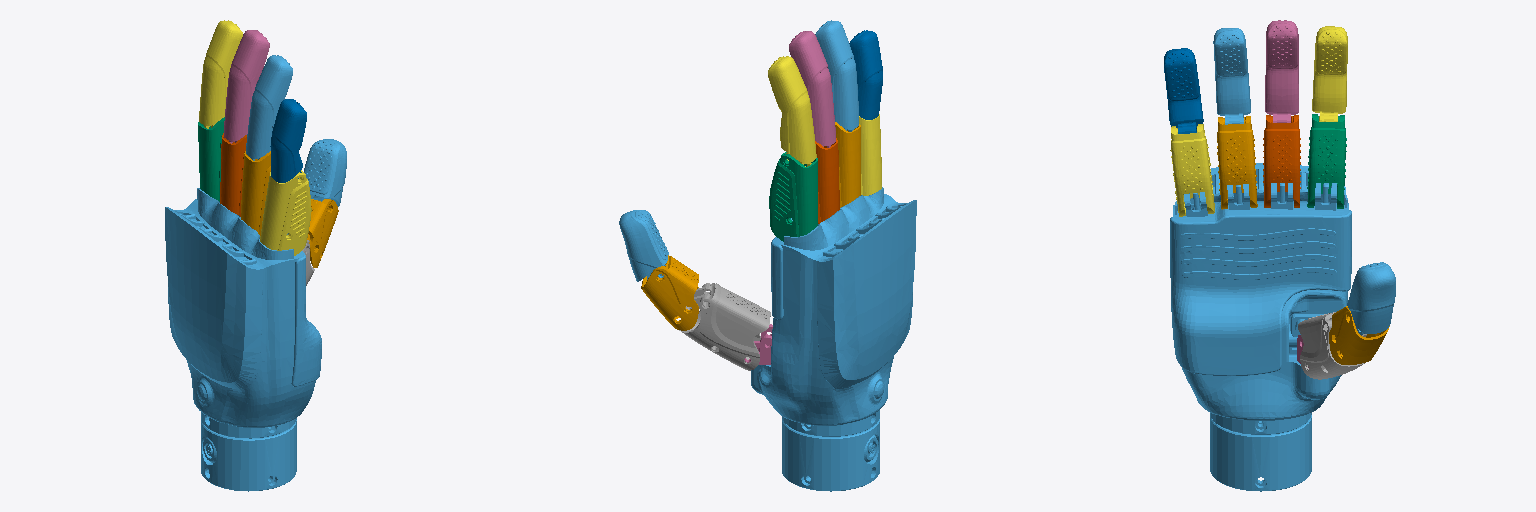
The robot description file, URDF, robot "inspire_hand_right":
<?xml version="1.0" encoding="UTF-8"?>
<robot name="inspire_hand_right">
  <!-- Extracted from franka_inspire_combined.urdf: Inspire hand only. -->
  <!-- ======================== -->
  <!-- Inspire Hand (joints)    -->
  <!-- ======================== -->
  <joint name="base_joint" type="fixed">
    <origin xyz="0. 0. 0.09" rpy="1.57 -0. -1.57"/>
    <parent link="inspire_hand_base"/>
    <child link="hand_base_link"/>
  </joint>
  <joint name="right_index_1_joint" type="revolute">
    <origin xyz="-0.040005 0.064623 -0.00345 " rpy="-1.5369525 -1.5707927 -3.1405327"/>
    <parent link="hand_base_link"/>
    <child link="right_index_1"/>
    <axis xyz="0. 1. 0."/>
    <limit lower="0." upper="1.47" effort="6." velocity="0.7"/>
  </joint>
  <joint name="right_index_2_joint" type="revolute">
    <origin xyz="-0.0016312 -0.00055 -0.032734 " rpy="0. 0. 0."/>
    <parent link="right_index_1"/>
    <child link="right_index_2"/>
    <axis xyz="0. 1. 0."/>
    <limit lower="0." upper="1.5435" effort="6." velocity="0.7"/>
    <mimic joint="right_index_1_joint" multiplier="1.05" offset="0.0"/>
  </joint>
  <joint name="index_tip_joint" type="fixed">
    <origin xyz="0. -0.006 -0.053575" rpy="0. 0. 0."/>
    <parent link="right_index_2"/>
    <child link="index_tip"/>
  </joint>
  <joint name="right_middle_1_joint" type="revolute">
    <origin xyz="-0.018426 0.065223 -0.00345 " rpy="-1.5544026 -1.5707927 3.1252024"/>
    <parent link="hand_base_link"/>
    <child link="right_middle_1"/>
    <axis xyz="0. 1. 0."/>
    <limit lower="0." upper="1.47" effort="6." velocity="0.7"/>
  </joint>
  <joint name="right_middle_2_joint" type="revolute">
    <origin xyz="-0.0028436 -0.00055 -0.032651 " rpy="0. 0. 0."/>
    <parent link="right_middle_1"/>
    <child link="right_middle_2"/>
    <axis xyz="0. 1. 0."/>
    <limit lower="0." upper="1.5435" effort="6." velocity="0.7"/>
    <mimic joint="right_middle_1_joint" multiplier="1.05" offset="0.0"/>
  </joint>
  <joint name="middle_tip_joint" type="fixed">
    <origin xyz="0. -0.006 -0.0572" rpy="0. 0. 0."/>
    <parent link="right_middle_2"/>
    <child link="middle_tip"/>
  </joint>
  <joint name="right_ring_1_joint" type="revolute">
    <origin xyz="0.0032044 0.065057 -0.00345 " rpy="-1.6217828 -1.5707927 3.1401827"/>
    <parent link="hand_base_link"/>
    <child link="right_ring_1"/>
    <axis xyz="0. 1. 0."/>
    <limit lower="0." upper="1.47" effort="6." velocity="0.7"/>
  </joint>
  <joint name="right_ring_2_joint" type="revolute">
    <origin xyz="-0.0031431 -0.00055 -0.032624 " rpy="0. 0. 0."/>
    <parent link="right_ring_1"/>
    <child link="right_ring_2"/>
    <axis xyz="0. 1. 0."/>
    <limit lower="0." upper="1.5435" effort="6." velocity="0.7"/>
    <mimic joint="right_ring_1_joint" multiplier="1.05" offset="0.0"/>
  </joint>
  <joint name="ring_tip_joint" type="fixed">
    <origin xyz="0. -0.006 -0.05365" rpy="0. 0. 0."/>
    <parent link="right_ring_2"/>
    <child link="ring_tip"/>
  </joint>
  <joint name="right_little_1_joint" type="revolute">
    <origin xyz="0.02459 0.061875 -0.00345 " rpy="-1.6722852 -1.5707927 3.1383853"/>
    <parent link="hand_base_link"/>
    <child link="right_little_1"/>
    <axis xyz="0. 1. 0."/>
    <limit lower="0." upper="1.47" effort="6." velocity="0.7"/>
  </joint>
  <joint name="right_little_2_joint" type="revolute">
    <origin xyz="-0.005182 -0.00055 -0.032363" rpy="0. 0.0000036 0."/>
    <parent link="right_little_1"/>
    <child link="right_little_2"/>
    <axis xyz="0. 1. 0."/>
    <limit lower="0." upper="1.5435" effort="6." velocity="0.7"/>
    <mimic joint="right_little_1_joint" multiplier="1.05" offset="0.0"/>
  </joint>
  <joint name="little_tip_joint" type="fixed">
    <origin xyz="0.0045 -0.006 -0.04365" rpy="0. 1.5707963 0."/>
    <parent link="right_little_2"/>
    <child link="little_tip"/>
  </joint>
  <joint name="right_thumb_1_joint" type="revolute">
    <origin xyz="-0.028226 -0.0227776 -0.0239 " rpy="0. 0. 0."/>
    <parent link="hand_base_link"/>
    <child link="right_thumb_1"/>
    <axis xyz="0. 1. 0."/>
    <limit lower="-1.2" upper="-0.3" effort="6." velocity="0.7"/>
  </joint>
  <joint name="right_thumb_2_joint" type="revolute">
    <origin xyz="-0.0063016 0.003 -0.011924 " rpy="-1.5707928 0.3490927 3.1065927"/>
    <parent link="right_thumb_1"/>
    <child link="right_thumb_2"/>
    <axis xyz="0. 1. 0."/>
    <limit lower="0.14" upper="0.56" effort="6." velocity="0.7"/>
  </joint>
  <joint name="right_thumb_3_joint" type="revolute">
    <origin xyz="0.038292 -0.0015 -0.014535" rpy="0. -0.25 0."/>
    <parent link="right_thumb_2"/>
    <child link="right_thumb_3"/>
    <axis xyz="0. 1. 0."/>
    <limit lower="0.056" upper="0.224" effort="6." velocity="0.7"/>
    <mimic joint="right_thumb_2_joint" multiplier="0.4" offset="0.0"/>
  </joint>
  <joint name="right_thumb_4_joint" type="revolute">
    <origin xyz="0.018189 -0.0002 -0.012576" rpy="0. -0.15 0."/>
    <parent link="right_thumb_3"/>
    <child link="right_thumb_4"/>
    <axis xyz="0. 1. 0."/>
    <limit lower="0.084" upper="0.336" effort="6." velocity="0.7"/>
    <mimic joint="right_thumb_2_joint" multiplier="0.6" offset="0.0"/>
  </joint>
  <joint name="thumb_tip_joint" type="fixed">
    <origin xyz="0.0268 -0.007 -0.023 " rpy="0. 0. 0."/>
    <parent link="right_thumb_4"/>
    <child link="thumb_tip"/>
  </joint>
  <!-- ======================== -->
  <!-- Inspire Hand (links)     -->
  <!-- ======================== -->
  <link name="inspire_hand_base"/>
  <link name="hand_base_link">
    <inertial>
      <origin xyz="-0.001272623093 -0.009142889064 0.0007918971564" rpy="0. 0. 0."/>
      <mass value="0.2"/>
      <inertia ixx="0.0003335118612" ixy="0.000004305697899" ixz="0.000001961083063" iyy="0.0001393655463" iyz="-0.00003154632444" izz="0.000387288915"/>
    </inertial>
<visual>
      <origin xyz="0. 0. 0." rpy="0. 0. 0."/>
      <geometry>
        <mesh filename="./meshes/hand_base_link_visuals.obj" scale="1. 1. 1."/>
      </geometry>
    </visual>
    <collision name="hand_base_link_hull_0">
      <origin xyz="0 0 0" rpy="0 0 0"/>
      <geometry>
        <mesh filename="./meshes/collision_hulls/hand_base_link_hull_0.obj" scale="1 1 1"/>
      </geometry>
    </collision>
    <collision name="hand_base_link_hull_1">
      <origin xyz="0 0 0" rpy="0 0 0"/>
      <geometry>
        <mesh filename="./meshes/collision_hulls/hand_base_link_hull_1.obj" scale="1 1 1"/>
      </geometry>
    </collision>
    <collision name="hand_base_link_hull_2">
      <origin xyz="0 0 0" rpy="0 0 0"/>
      <geometry>
        <mesh filename="./meshes/collision_hulls/hand_base_link_hull_2.obj" scale="1 1 1"/>
      </geometry>
    </collision>
    <collision name="hand_base_link_hull_3">
      <origin xyz="0 0 0" rpy="0 0 0"/>
      <geometry>
        <mesh filename="./meshes/collision_hulls/hand_base_link_hull_3.obj" scale="1 1 1"/>
      </geometry>
    </collision>
    <collision name="hand_base_link_hull_4">
      <origin xyz="0 0 0" rpy="0 0 0"/>
      <geometry>
        <mesh filename="./meshes/collision_hulls/hand_base_link_hull_4.obj" scale="1 1 1"/>
      </geometry>
    </collision>
    <collision name="hand_base_link_hull_5">
      <origin xyz="0 0 0" rpy="0 0 0"/>
      <geometry>
        <mesh filename="./meshes/collision_hulls/hand_base_link_hull_5.obj" scale="1 1 1"/>
      </geometry>
    </collision>
  </link>
  <link name="right_index_1">
    <inertial>
      <origin xyz="-0.001838811796 -0.006651373776 -0.01236268848" rpy="0. 0. 0."/>
      <mass value="0.0063589"/>
      <inertia ixx="0.000001132039696" ixy="0.00000000008538271612" ixz="-0.00000003733508368" iyy="0.000001171761833" iyz="-0.0000000000567945811" izz="0.0000005109349196"/>
    </inertial>
<visual>
      <origin xyz="0. 0. 0." rpy="0. 0. 0."/>
      <geometry>
        <mesh filename="./meshes/right_index_1_visuals.obj" scale="1. 1. 1."/>
      </geometry>
    </visual>
    <collision name="right_index_1_hull_0">
      <origin xyz="0 0 0" rpy="0 0 0"/>
      <geometry>
        <mesh filename="./meshes/collision_hulls/right_index_1_hull_0.obj" scale="1 1 1"/>
      </geometry>
    </collision>
  </link>
  <link name="right_index_2">
    <inertial>
      <origin xyz="0.0004053353345 -0.006093274507 -0.02568713569" rpy="0. 0. 0."/>
      <mass value="0.00645"/>
      <inertia ixx="0.00000150135064" ixy="-0.0000000002609566413" ixz="-0.0000002737421637" iyy="0.000001532400017" iyz="-0.00000000181552815" izz="0.0000002598660911"/>
    </inertial>
<visual>
      <origin xyz="0. 0. 0." rpy="0. 0. 0."/>
      <geometry>
        <mesh filename="./meshes/right_index_2_visuals.obj" scale="1. 1. 1."/>
      </geometry>
    </visual>
    <collision name="right_index_2_hull_0">
      <origin xyz="0 0 0" rpy="0 0 0"/>
      <geometry>
        <mesh filename="./meshes/collision_hulls/right_index_2_hull_0.obj" scale="1 1 1"/>
      </geometry>
    </collision>
  </link>
  <link name="index_tip"/>
  <link name="right_middle_1">
    <inertial>
      <origin xyz="-0.002295852088 -0.006651373749 -0.01228602297" rpy="0. 0. 0."/>
      <mass value="0.0063589"/>
      <inertia ixx="0.000001128419883" ixy="0.00000000008321837241" ixz="-0.00000006024195728" iyy="0.000001171761838" iyz="-0.00000000005992508311" izz="0.0000005145547415"/>
    </inertial>
<visual>
      <origin xyz="0. 0. 0." rpy="0. 0. 0."/>
      <geometry>
        <mesh filename="./meshes/right_middle_1_visuals.obj" scale="1. 1. 1."/>
      </geometry>
    </visual>
    <collision name="right_middle_1_hull_0">
      <origin xyz="0 0 0" rpy="0 0 0"/>
      <geometry>
        <mesh filename="./meshes/collision_hulls/right_middle_1_hull_0.obj" scale="1 1 1"/>
      </geometry>
    </collision>
  </link>
  <link name="right_middle_2">
    <inertial>
      <origin xyz="0.00007509781862 -0.006100610723 -0.02743848538" rpy="0. 0. 0."/>
      <mass value="0.00645"/>
      <inertia ixx="0.000001699851379" ixy="0.000000000005522714887" ixz="-0.0000002875735786" iyy="0.000001729870717" iyz="0.00000000002990495876" izz="0.000000259746994"/>
    </inertial>
<visual>
      <origin xyz="0. 0. 0." rpy="0. 0. 0."/>
      <geometry>
        <mesh filename="./meshes/right_middle_2_visuals.obj" scale="1. 1. 1."/>
      </geometry>
    </visual>
    <collision name="right_middle_2_hull_0">
      <origin xyz="0 0 0" rpy="0 0 0"/>
      <geometry>
        <mesh filename="./meshes/collision_hulls/right_middle_2_hull_0.obj" scale="1 1 1"/>
      </geometry>
    </collision>
  </link>
  <link name="middle_tip"/>
  <link name="right_ring_1">
    <inertial>
      <origin xyz="-0.002408515478 -0.006651373778 -0.01226443421" rpy="0. 0. 0."/>
      <mass value="0.0063589"/>
      <inertia ixx="0.000001127262429" ixy="0.00000000008266481729" ixz="-0.00000006586558252" iyy="0.000001171761845" iyz="-0.00000000006068204785" izz="0.0000005157121956"/>
    </inertial>
<visual>
      <origin xyz="0. 0. 0." rpy="0. 0. 0."/>
      <geometry>
        <mesh filename="./meshes/right_ring_1_visuals.obj" scale="1. 1. 1."/>
      </geometry>
    </visual>
    <collision name="right_ring_1_hull_0">
      <origin xyz="0 0 0" rpy="0 0 0"/>
      <geometry>
        <mesh filename="./meshes/collision_hulls/right_ring_1_hull_0.obj" scale="1 1 1"/>
      </geometry>
    </collision>
  </link>
  <link name="right_ring_2">
    <inertial>
      <origin xyz="0.0006669307643 -0.006093274516 -0.02568167475" rpy="0. 0. 0."/>
      <mass value="0.00645"/>
      <inertia ixx="0.000001506797535" ixy="-0.0000000002424515799" ixz="-0.0000002610418565" iyy="0.000001532400007" iyz="-0.000000001818088755" izz="0.0000002544191848"/>
    </inertial>
<visual>
      <origin xyz="0. 0. 0." rpy="0. 0. 0."/>
      <geometry>
        <mesh filename="./meshes/right_ring_2_visuals.obj" scale="1. 1. 1."/>
      </geometry>
    </visual>
    <collision name="right_ring_2_hull_0">
      <origin xyz="0 0 0" rpy="0 0 0"/>
      <geometry>
        <mesh filename="./meshes/collision_hulls/right_ring_2_hull_0.obj" scale="1 1 1"/>
      </geometry>
    </collision>
  </link>
  <link name="ring_tip"/>
  <link name="right_little_1">
    <inertial>
      <origin xyz="-0.003172583099 -0.006651373786 -0.01208933465" rpy="0. 0. 0."/>
      <mass value="0.0063589"/>
      <inertia ixx="0.00000111661793" ixy="0.00000000007869901144" ixz="-0.0000001036079896" iyy="0.00000117176184" iyz="-0.00000000006574484667" izz="0.0000005263566951"/>
    </inertial>
<visual>
      <origin xyz="0. 0. 0." rpy="0. 0. 0."/>
      <geometry>
        <mesh filename="./meshes/right_little_1_visuals.obj" scale="1. 1. 1."/>
      </geometry>
    </visual>
    <collision name="right_little_1_hull_0">
      <origin xyz="0 0 0" rpy="0 0 0"/>
      <geometry>
        <mesh filename="./meshes/collision_hulls/right_little_1_hull_0.obj" scale="1 1 1"/>
      </geometry>
    </collision>
  </link>
  <link name="right_little_2">
    <inertial>
      <origin xyz="0.004694169403 -0.006100496151 -0.02042666272" rpy="0. 0. 0."/>
      <mass value="0.00645"/>
      <inertia ixx="0.000001083844886" ixy="0.000000000001602751011" ixz="-0.00000006162328869" iyy="0.000001052011652" iyz="0.00000000001494746228" izz="0.0000001962101104"/>
    </inertial>
<visual>
      <origin xyz="0. 0. 0." rpy="0. 0. 0."/>
      <geometry>
        <mesh filename="./meshes/right_little_2_visuals.obj" scale="1. 1. 1."/>
      </geometry>
    </visual>
    <collision name="right_little_2_hull_0">
      <origin xyz="0 0 0" rpy="0 0 0"/>
      <geometry>
        <mesh filename="./meshes/collision_hulls/right_little_2_hull_0.obj" scale="1 1 1"/>
      </geometry>
    </collision>
  </link>
  <link name="little_tip"/>
  <link name="right_thumb_1">
    <inertial>
      <origin xyz="-0.001781081397 0.0048786005 -0.0006484801959" rpy="0. 0. 0."/>
      <mass value="0.0026834"/>
      <inertia ixx="0.000000138831593" ixy="-0.000000007637620939" ixz="0.00000001870258345" iyy="0.0000001433507694" iyz="-0.000000002774766228" izz="0.00000009426260374"/>
    </inertial>
<visual>
      <origin xyz="0. 0. 0." rpy="0. 0. 0."/>
      <geometry>
        <mesh filename="./meshes/right_thumb_1_visuals.obj" scale="1. 1. 1."/>
      </geometry>
    </visual>
    <collision name="right_thumb_1_hull_0">
      <origin xyz="0 0 0" rpy="0 0 0"/>
      <geometry>
        <mesh filename="./meshes/collision_hulls/right_thumb_1_hull_0.obj" scale="1 1 1"/>
      </geometry>
    </collision>
  </link>
  <link name="right_thumb_2">
    <inertial>
      <origin xyz="0.01611338217 -0.009052591214 -0.01032677082" rpy="0. 0. 0."/>
      <mass value="0.0055"/>
      <inertia ixx="0.0000008887993502" ixy="-0.0000000003327784141" ixz="0.00000007611838453" iyy="0.000001209688959" iyz="0.0000000003066556666" izz="0.0000009446557027"/>
    </inertial>
<visual>
      <origin xyz="0. 0. 0." rpy="0. 0. 0."/>
      <geometry>
        <mesh filename="./meshes/right_thumb_2_visuals.obj" scale="1. 1. 1."/>
      </geometry>
    </visual>
    <collision name="right_thumb_2_hull_0">
      <origin xyz="0 0 0" rpy="0 0 0"/>
      <geometry>
        <mesh filename="./meshes/collision_hulls/right_thumb_2_hull_0.obj" scale="1 1 1"/>
      </geometry>
    </collision>
  </link>
  <link name="right_thumb_3">
    <inertial>
      <origin xyz="0.009242462082 -0.007542657185 -0.004822035958" rpy="0. 0. 0."/>
      <mass value="0.0055"/>
      <inertia ixx="0.0000006563657091" ixy="0.00000000004993958488" ixz="0.00000006307553361" iyy="0.000000593877729" iyz="0.0000000003535885375" izz="0.000000538400183"/>
    </inertial>
<visual>
      <origin xyz="0. 0. 0." rpy="0. 0. 0."/>
      <geometry>
        <mesh filename="./meshes/right_thumb_3_visuals.obj" scale="1. 1. 1."/>
      </geometry>
    </visual>
    <collision name="right_thumb_3_hull_0">
      <origin xyz="0 0 0" rpy="0 0 0"/>
      <geometry>
        <mesh filename="./meshes/collision_hulls/right_thumb_3_hull_0.obj" scale="1 1 1"/>
      </geometry>
    </collision>
  </link>
  <link name="right_thumb_4">
    <inertial>
      <origin xyz="0.01358746243 -0.007343488624 -0.01051329036" rpy="0. 0. 0."/>
      <mass value="0.0055"/>
      <inertia ixx="0.0000004757767845" ixy="0.0000000003618054049" ixz="0.0000001504579347" iyy="0.0000005575197595" iyz="-0.0000000005534531146" izz="0.0000003709507118"/>
    </inertial>
<visual>
      <origin xyz="0. 0. 0." rpy="0. 0. 0."/>
      <geometry>
        <mesh filename="./meshes/right_thumb_4_visuals.obj" scale="1. 1. 1."/>
      </geometry>
    </visual>
    <collision name="right_thumb_4_hull_0">
      <origin xyz="0 0 0" rpy="0 0 0"/>
      <geometry>
        <mesh filename="./meshes/collision_hulls/right_thumb_4_hull_0.obj" scale="1 1 1"/>
      </geometry>
    </collision>
  </link>
  <link name="thumb_tip"/>
</robot>

--- What the picture shows (computed from the rendered views, not written in the file) ---
The picture shows the robot from 3 angles, left to right: view 1: azimuth 30°, elevation 25°; view 2: azimuth 150°, elevation 25°; view 3: azimuth 270°, elevation 25°; orthographic projection.
Model inspire_hand_right with 19 links and 18 joints (12 revolute, 6 fixed), rooted at inspire_hand_base, posed all joints at 0 but 4 set to mid-range because 0 is outside their limits (right_thumb_1_joint = -0.75, right_thumb_2_joint = 0.35, right_thumb_3_joint = 0.14, right_thumb_4_joint = 0.21).
Links seen in each view (by area): view 1: hand_base_link, right_little_1, right_middle_2, right_ring_2, right_index_2, right_little_2, right_thumb_4, right_ring_1, right_middle_1, right_index_1, right_thumb_3; view 2: hand_base_link, right_thumb_2, right_index_1, right_index_2, right_middle_2, right_ring_2, right_thumb_3, right_thumb_4, right_little_2, right_ring_1, right_middle_1, right_little_1; view 3: hand_base_link, right_middle_2, right_ring_2, right_index_2, right_thumb_4, right_index_1, right_ring_1, right_little_1, right_middle_1, right_little_2, right_thumb_2, right_thumb_3.
Boxes of the visible links, <box> form: hand_base_link: <box>165,188,321,491</box>; right_little_1: <box>260,170,311,255</box>; right_middle_2: <box>224,30,269,143</box>; right_ring_2: <box>246,55,292,160</box>; right_index_2: <box>199,20,242,128</box>; right_little_2: <box>270,99,306,182</box>; right_thumb_4: <box>304,139,346,206</box>; right_ring_1: <box>241,151,270,235</box>; right_middle_1: <box>220,133,246,216</box>; right_index_1: <box>198,117,224,201</box>; right_thumb_3: <box>307,199,338,267</box>; hand_base_link: <box>751,187,916,491</box>; right_thumb_2: <box>679,283,770,370</box>; right_index_1: <box>769,152,817,241</box>; right_index_2: <box>768,56,816,166</box>; right_middle_2: <box>789,31,835,147</box>; right_ring_2: <box>815,20,858,131</box>; right_thumb_3: <box>641,255,698,330</box>; right_thumb_4: <box>619,210,668,281</box>; right_little_2: <box>849,30,882,119</box>; right_ring_1: <box>835,122,860,207</box>; right_middle_1: <box>815,138,839,223</box>; right_little_1: <box>859,114,881,195</box>; hand_base_link: <box>1170,163,1351,491</box>; right_middle_2: <box>1265,20,1298,122</box>; right_ring_2: <box>1213,28,1250,124</box>; right_index_2: <box>1312,26,1347,121</box>; right_thumb_4: <box>1347,262,1395,334</box>; right_index_1: <box>1307,114,1346,208</box>; right_ring_1: <box>1217,116,1257,209</box>; right_little_1: <box>1170,124,1214,216</box>; right_middle_1: <box>1263,115,1300,207</box>; right_little_2: <box>1164,48,1203,133</box>; right_thumb_2: <box>1298,312,1366,379</box>; right_thumb_3: <box>1329,306,1389,364</box>.
Size in the robot's own frame: 0.1251 by 0.114 by 0.2469 metres.
Meshes: 13 distinct files referenced, 13 mesh visuals loaded (13 OBJ).
